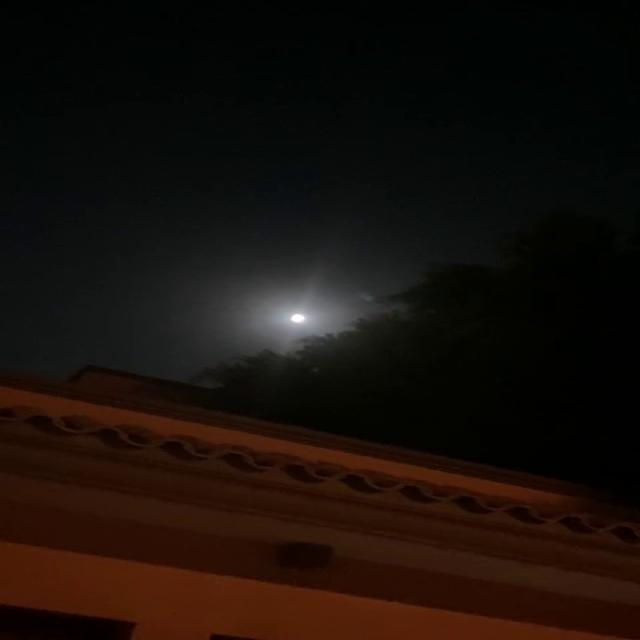moon: (263, 300, 317, 327)
